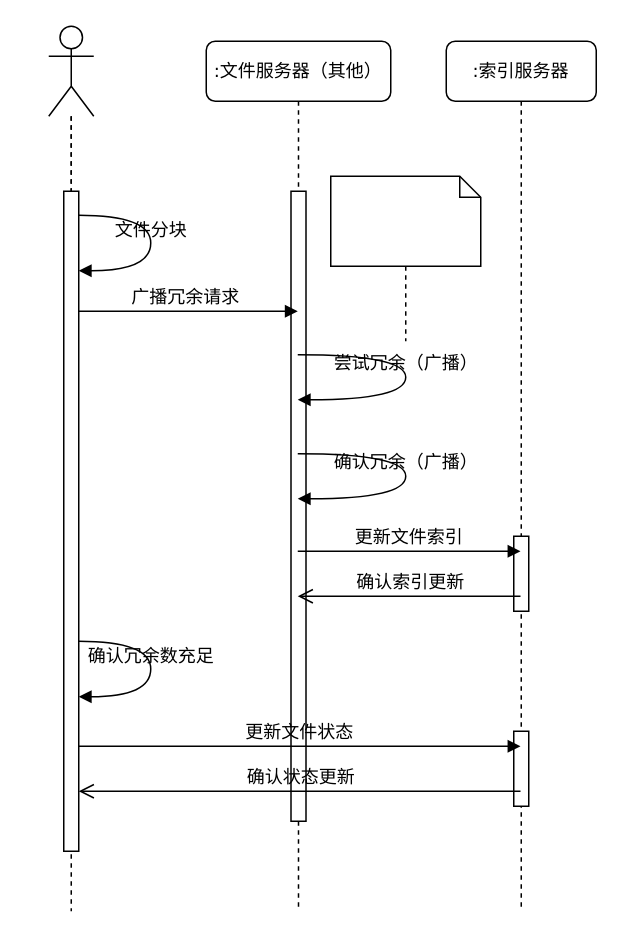
The diagram is 623 pixels wide and 939 high, and some of its shapes have lost their labels. Here are the shapes that lost their labels. From the top down, the centre of each, then its label:
At [70,70]: "文件服务器".
At [405,220]: "仅距源服务器 及其他响应服务器 物理地址足够远 的服务器响应".
